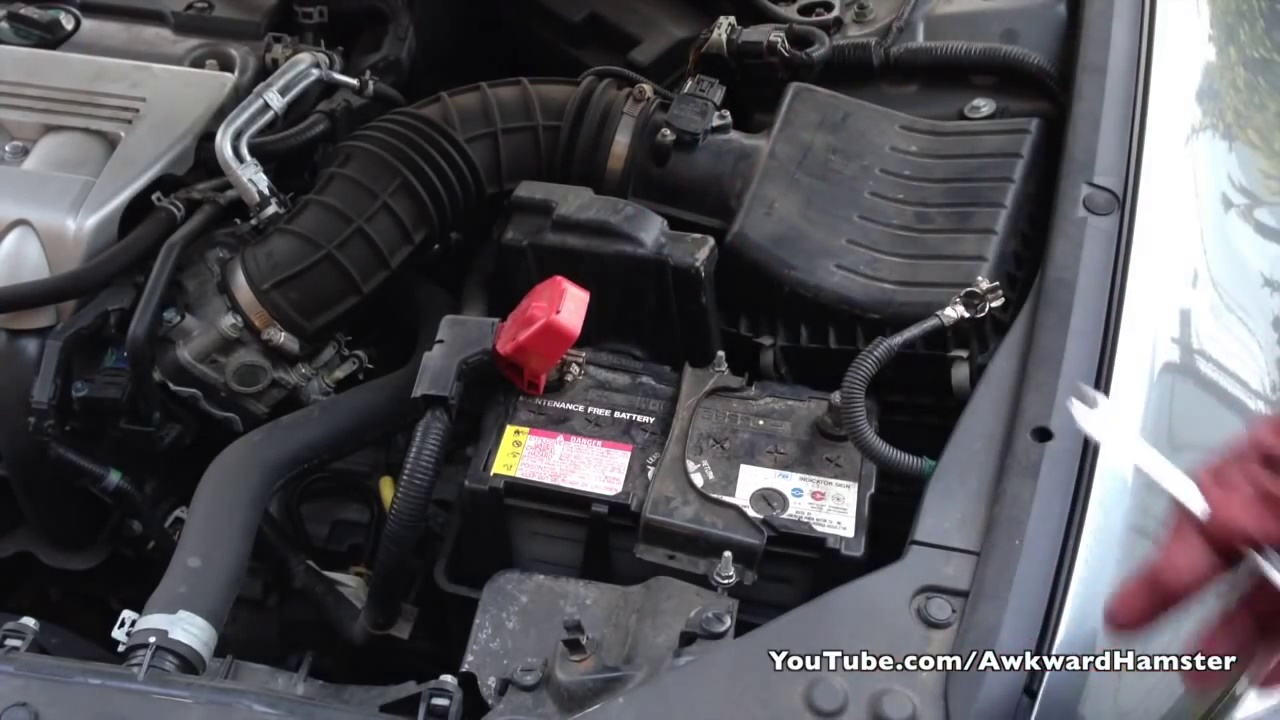battery: (466, 328, 879, 560)
neg_disconnected: (786, 364, 890, 452)
pos_connected: (450, 279, 614, 397)
